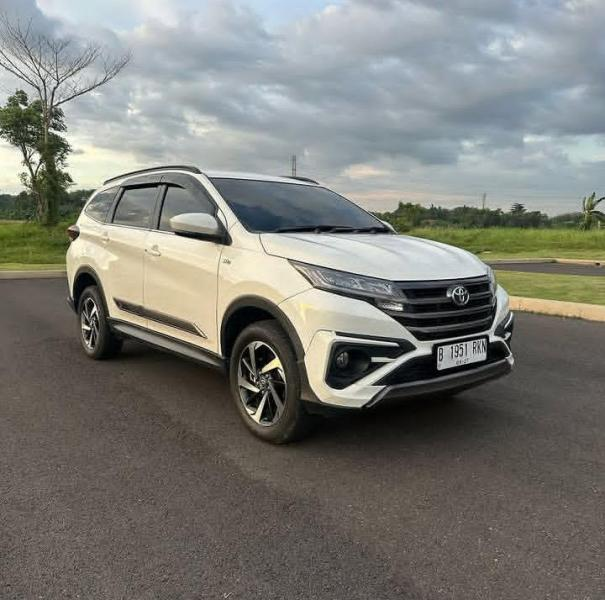plat nomor: (435, 336, 488, 372)
